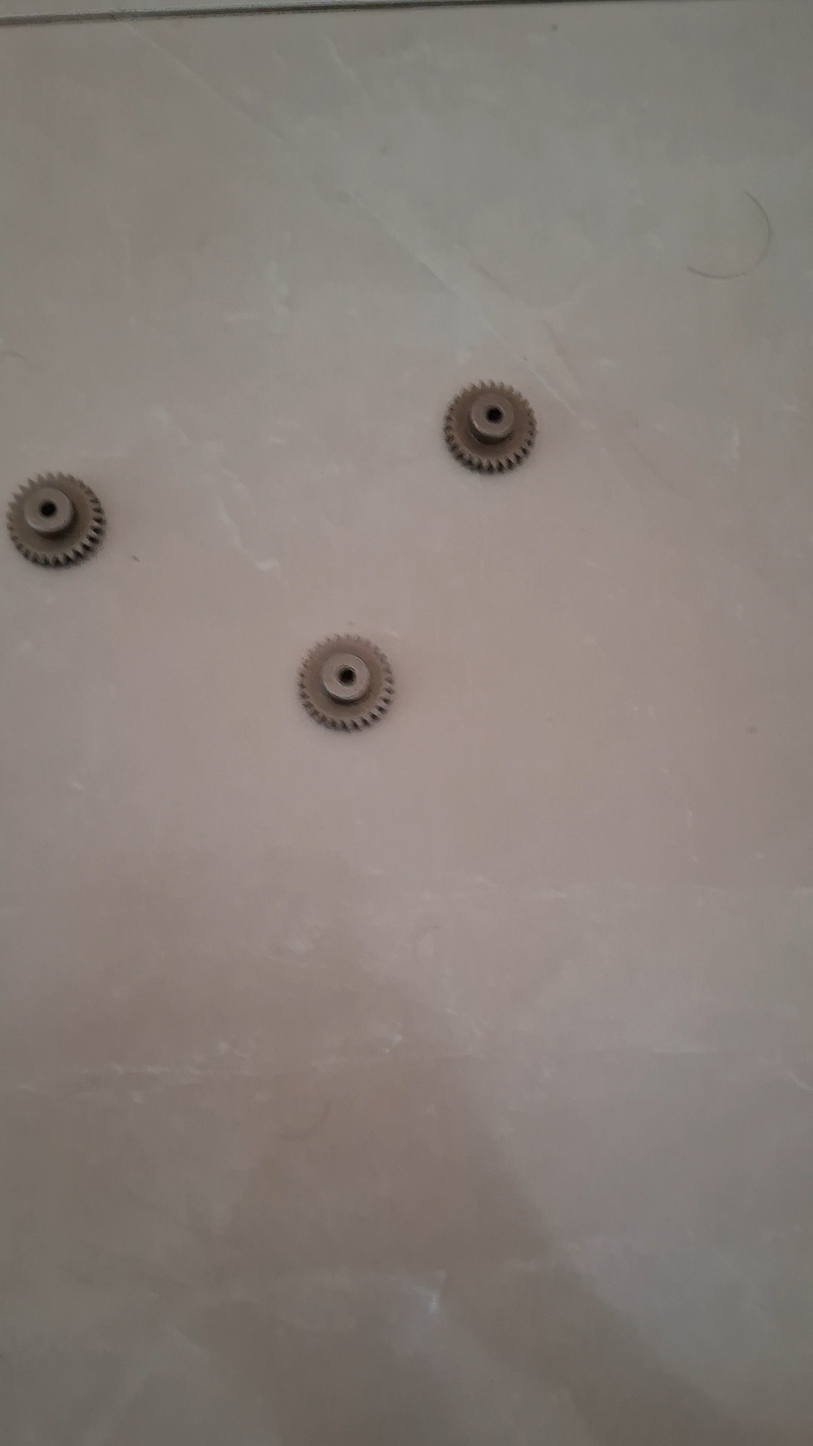spur gear: (299, 636, 394, 731), (7, 474, 105, 566), (444, 382, 536, 472)
